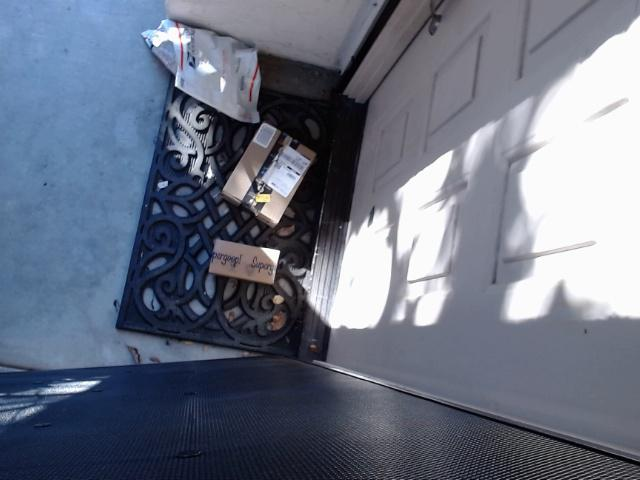box: (220, 121, 317, 228), (207, 238, 280, 286)
plastic_bag: (140, 18, 259, 123)
